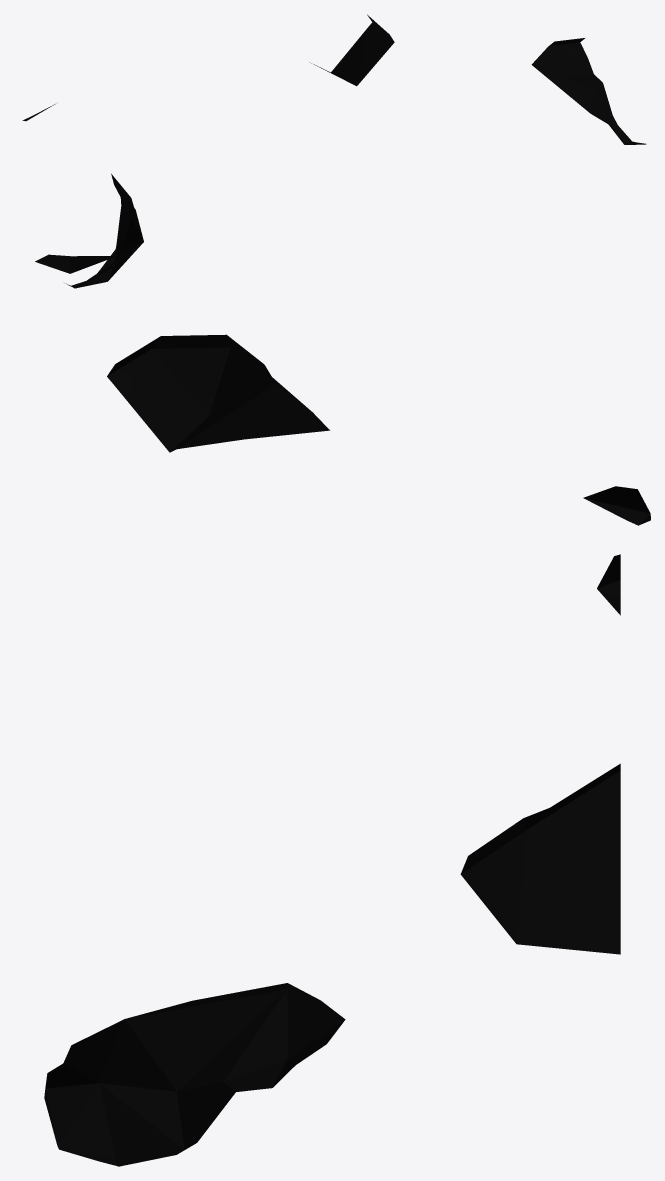
3 views of the same model, one above another, from view 1: azimuth 30°, elevation 25°; view 2: azimuth 150°, elevation 25°; view 3: azimuth 270°, elevation 25° (orthographic). The views are drawn at different scales.
Bounding box in the file's own units: 0.8573 × 0.1168 × 0.4341.
1 material, 1 textured.
